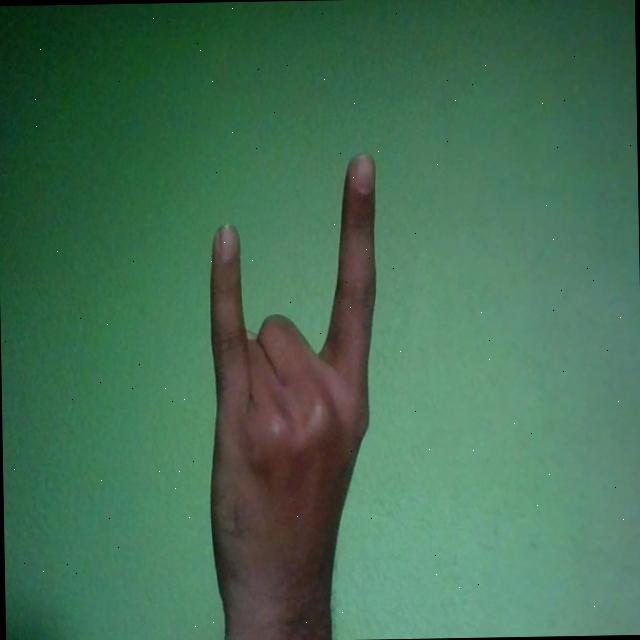open Plam: (203, 147, 385, 640)
